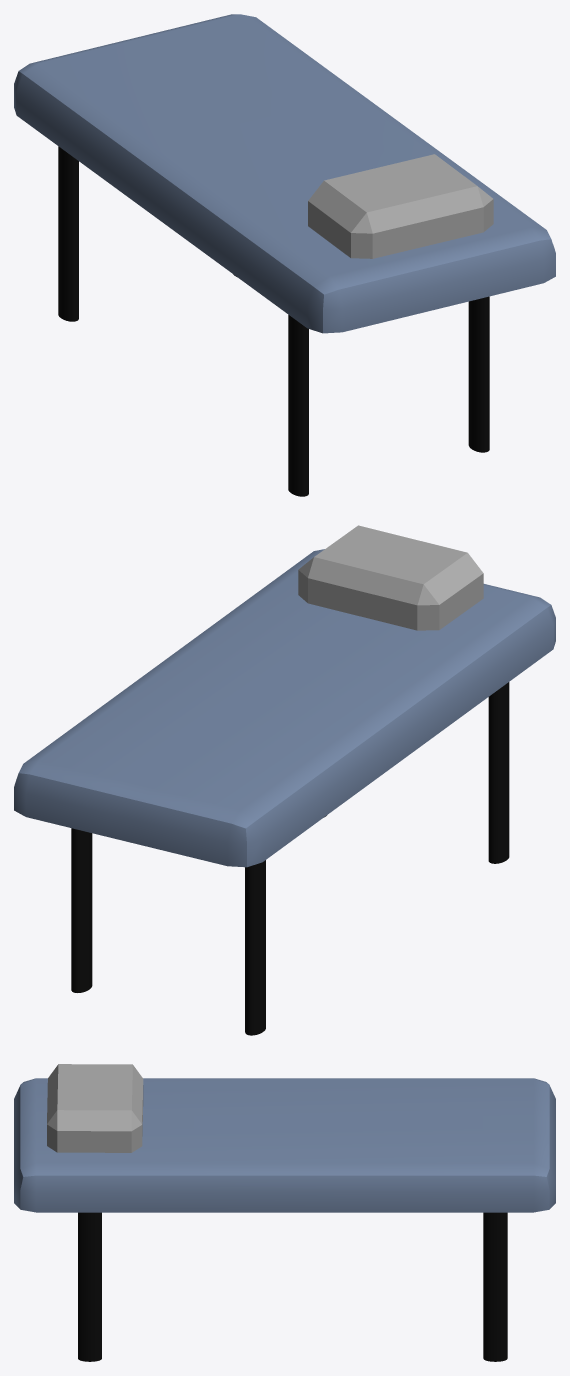
The model's file is bed.fbx.
The picture shows the model from 3 angles, top to bottom: view 1: azimuth 30°, elevation 25°; view 2: azimuth 150°, elevation 25°; view 3: azimuth 270°, elevation 25°; orthographic projection. The views are drawn at different scales.
Visible parts, largest first — view 1: pasted__pasted__pasted__pCube2, pasted__pasted__pasted__pCube3, pasted__pasted__pasted__pasted__pCylinder1 (×2), pasted__pasted__pasted__pasted__pasted__pCylinder1; view 2: pasted__pasted__pasted__pCube2, pasted__pasted__pasted__pCube3, pasted__pasted__pasted__pasted__pasted__pCylinder1, pasted__pasted__pasted__pasted__pCylinder1, pasted__pasted__pasted__pCylinder1; view 3: pasted__pasted__pasted__pCube2, pasted__pasted__pasted__pCube3, pasted__pasted__pasted__pCylinder1, pasted__pasted__pasted__pasted__pCylinder1.
Part boxes in pixels (bbox=[...]): pasted__pasted__pasted__pCube2: bbox=[14, 14, 555, 333]; pasted__pasted__pasted__pCube3: bbox=[308, 154, 493, 258]; pasted__pasted__pasted__pasted__pCylinder1 (×2): bbox=[58, 146, 489, 452]; pasted__pasted__pasted__pasted__pasted__pCylinder1: bbox=[288, 315, 308, 496]; pasted__pasted__pasted__pCube2: bbox=[14, 549, 555, 867]; pasted__pasted__pasted__pCube3: bbox=[298, 525, 483, 630]; pasted__pasted__pasted__pasted__pasted__pCylinder1: bbox=[488, 682, 509, 863]; pasted__pasted__pasted__pasted__pCylinder1: bbox=[245, 860, 265, 1035]; pasted__pasted__pasted__pCylinder1: bbox=[71, 828, 92, 992]; pasted__pasted__pasted__pCube2: bbox=[14, 1078, 555, 1212]; pasted__pasted__pasted__pCube3: bbox=[47, 1064, 143, 1152]; pasted__pasted__pasted__pCylinder1: bbox=[483, 1212, 507, 1361]; pasted__pasted__pasted__pasted__pCylinder1: bbox=[78, 1212, 101, 1361].
Bounding box in the file's own units: 1.63 × 1.77 × 3.63.
